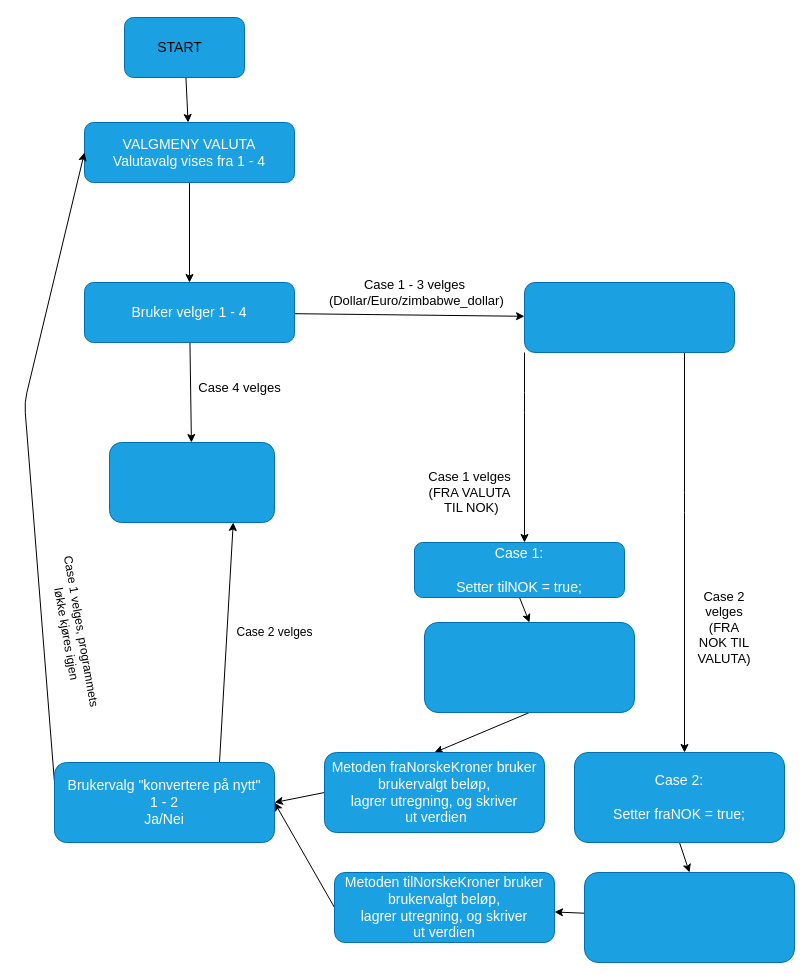
The diagram is 812 pixels wide and 980 high, and some of its shapes have lost their labels. Each missing label, with the box of its shape:
Brukervalg antall NOK til valgt valuta: (584, 872, 794, 962)
Brukervalg antall valgt valuta til NOK: (424, 622, 634, 712)
Brukervalg TIL eller FRA NOK konvertering 1 - 2 fraNOK/tilNOK: (524, 282, 734, 352)
Setter avslutt = true; Programmet avsluttes.: (108, 442, 274, 522)
